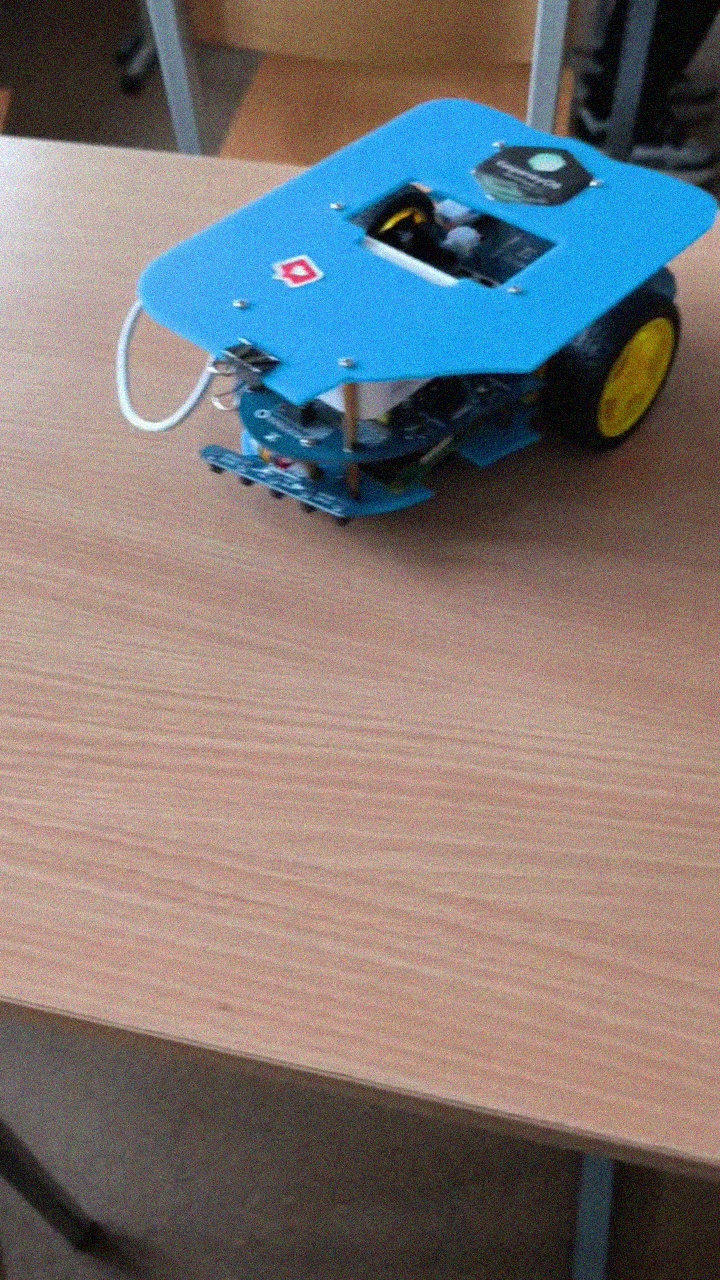robot: (116, 96, 720, 530)
